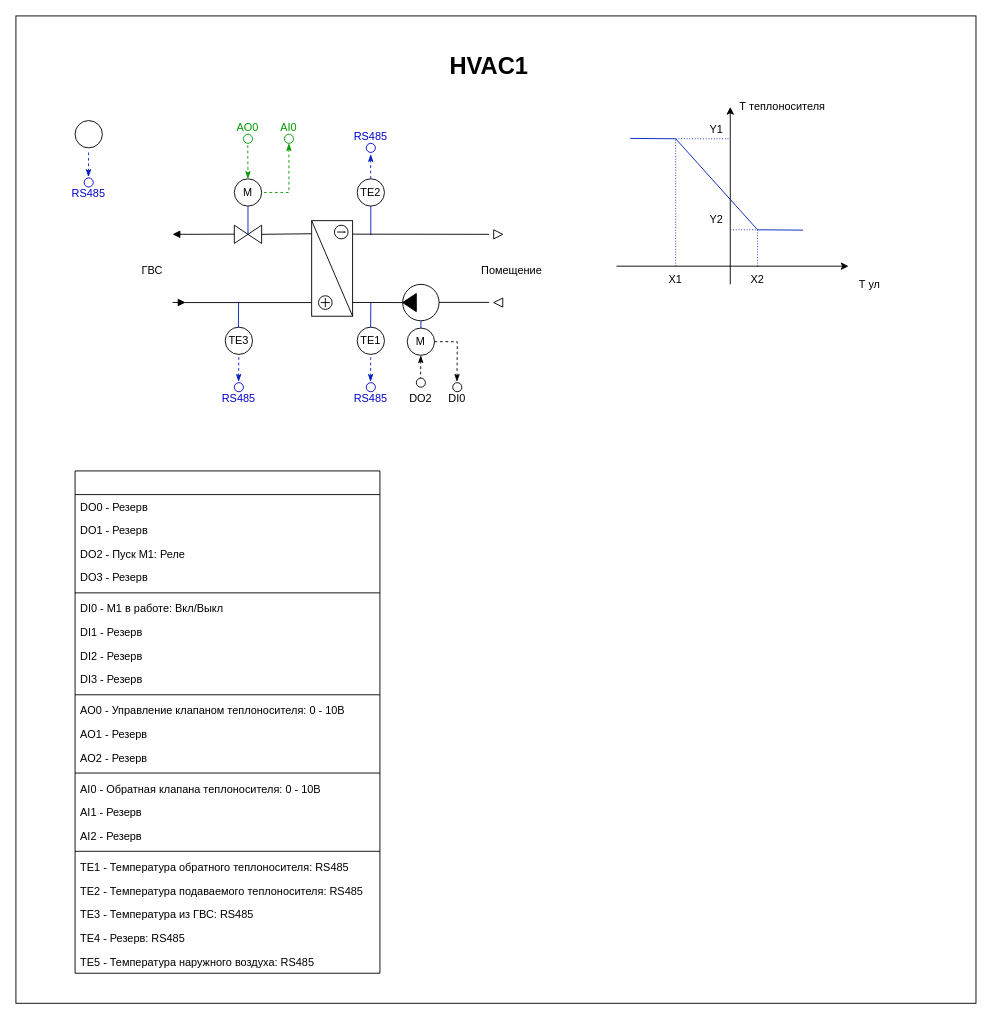
The diagram is 992 pixels wide and 1019 high, and some of its shapes have lost their labels. The shapes that lost their labels are listed below. From the top down, each one's box as (x1, y1, x2, y2) in pixels, then its label:
(74, 120, 102, 148): TE5
(74, 470, 380, 973): Сигналы
